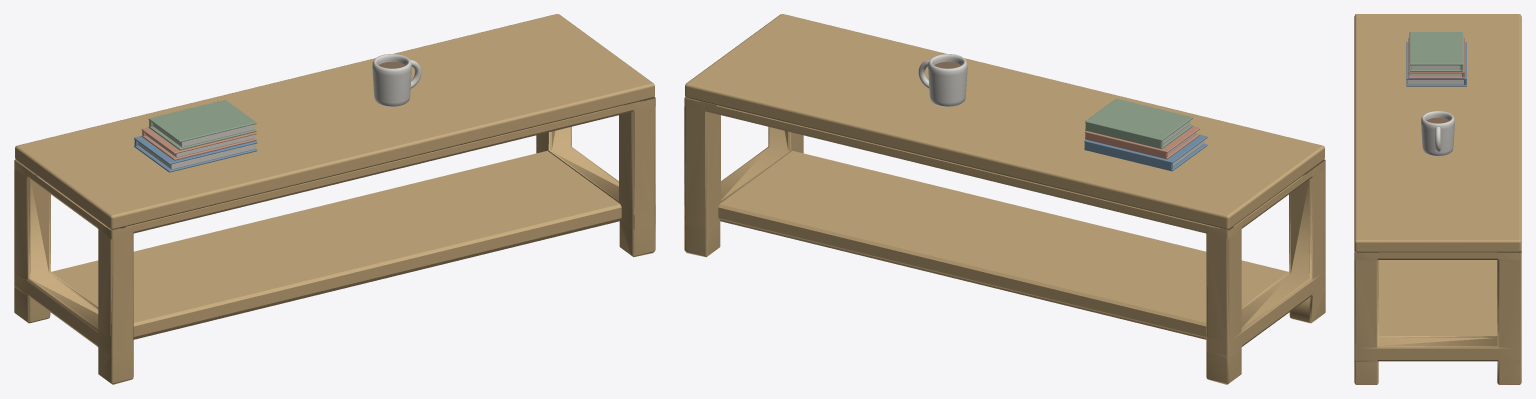
The model's file is mesa-centro.glb.
3 renders of one model, left to right at view 1: azimuth 30°, elevation 25°; view 2: azimuth 150°, elevation 25°; view 3: azimuth 270°, elevation 25°, orthographic. The views are drawn at different scales.
Size of the model in its own units: 1.91 by 0.6963 by 0.591.
